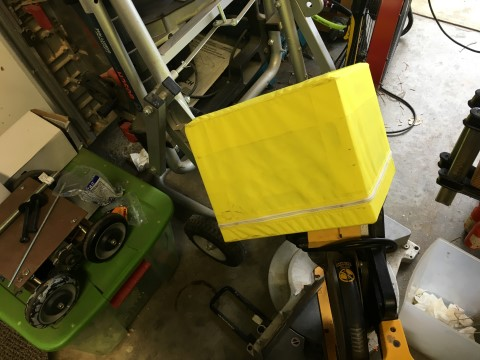cube: (184, 61, 397, 242)
